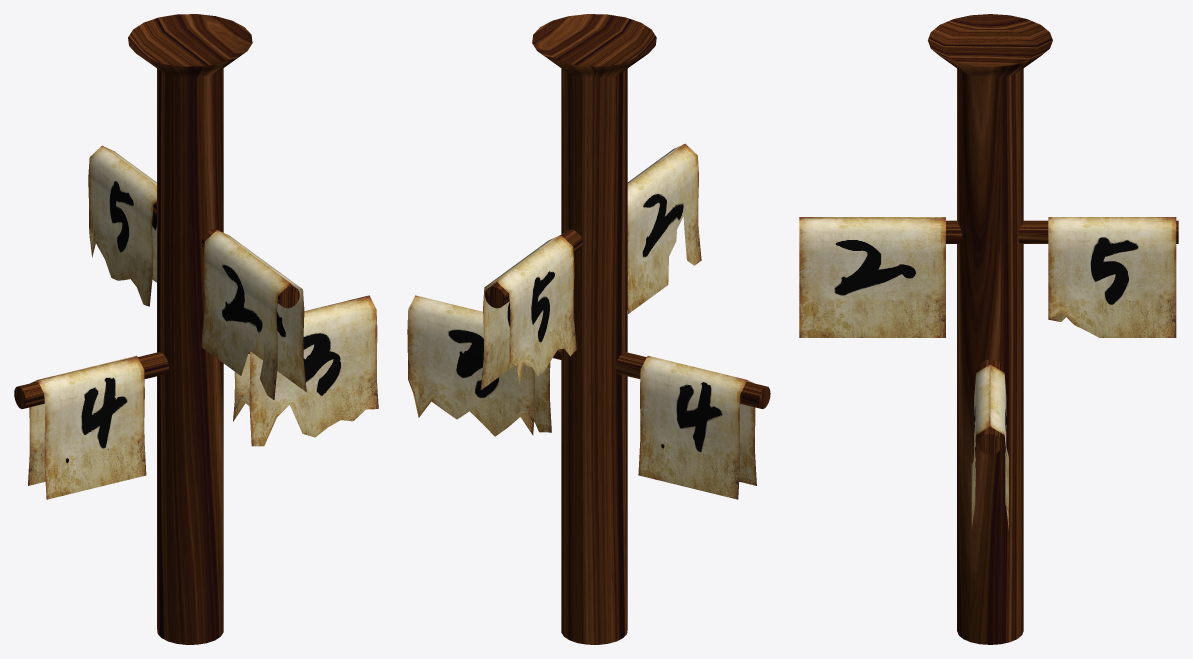
Rendered from Wood_Sign.fbx.
3 views of the same model, side by side, from view 1: azimuth 30°, elevation 25°; view 2: azimuth 150°, elevation 25°; view 3: azimuth 270°, elevation 25° (orthographic).
Parts seen in each view (by area): view 1: pCylinder1, pPlane1, pPlane2, pPlane3, pPlane4, pCylinder3, pCylinder2; view 2: pCylinder1, pPlane1, pPlane2, pPlane4, pPlane3, pCylinder3, pCylinder2; view 3: pCylinder1, pPlane3, pPlane4, pPlane2, pCylinder2, pCylinder3.
Part boxes in pixels (x1,y1,x2,y2): pCylinder1: [128, 14, 252, 644]; pPlane1: [28, 355, 146, 499]; pPlane2: [233, 295, 378, 446]; pPlane3: [201, 230, 306, 399]; pPlane4: [88, 145, 156, 306]; pCylinder3: [14, 352, 249, 408]; pCylinder2: [153, 201, 299, 308]; pCylinder1: [532, 14, 656, 644]; pPlane1: [638, 355, 756, 499]; pPlane2: [407, 295, 551, 436]; pPlane4: [480, 235, 576, 390]; pPlane3: [627, 143, 701, 313]; pCylinder3: [553, 349, 770, 408]; pCylinder2: [485, 229, 582, 308]; pCylinder1: [928, 14, 1052, 644]; pPlane3: [799, 217, 945, 337]; pPlane4: [1048, 217, 1176, 337]; pPlane2: [971, 364, 1008, 531]; pCylinder2: [946, 220, 1178, 243]; pCylinder3: [978, 360, 1001, 454].
Bounding box in the file's own units: 12.14 × 19.52 × 11.38.
